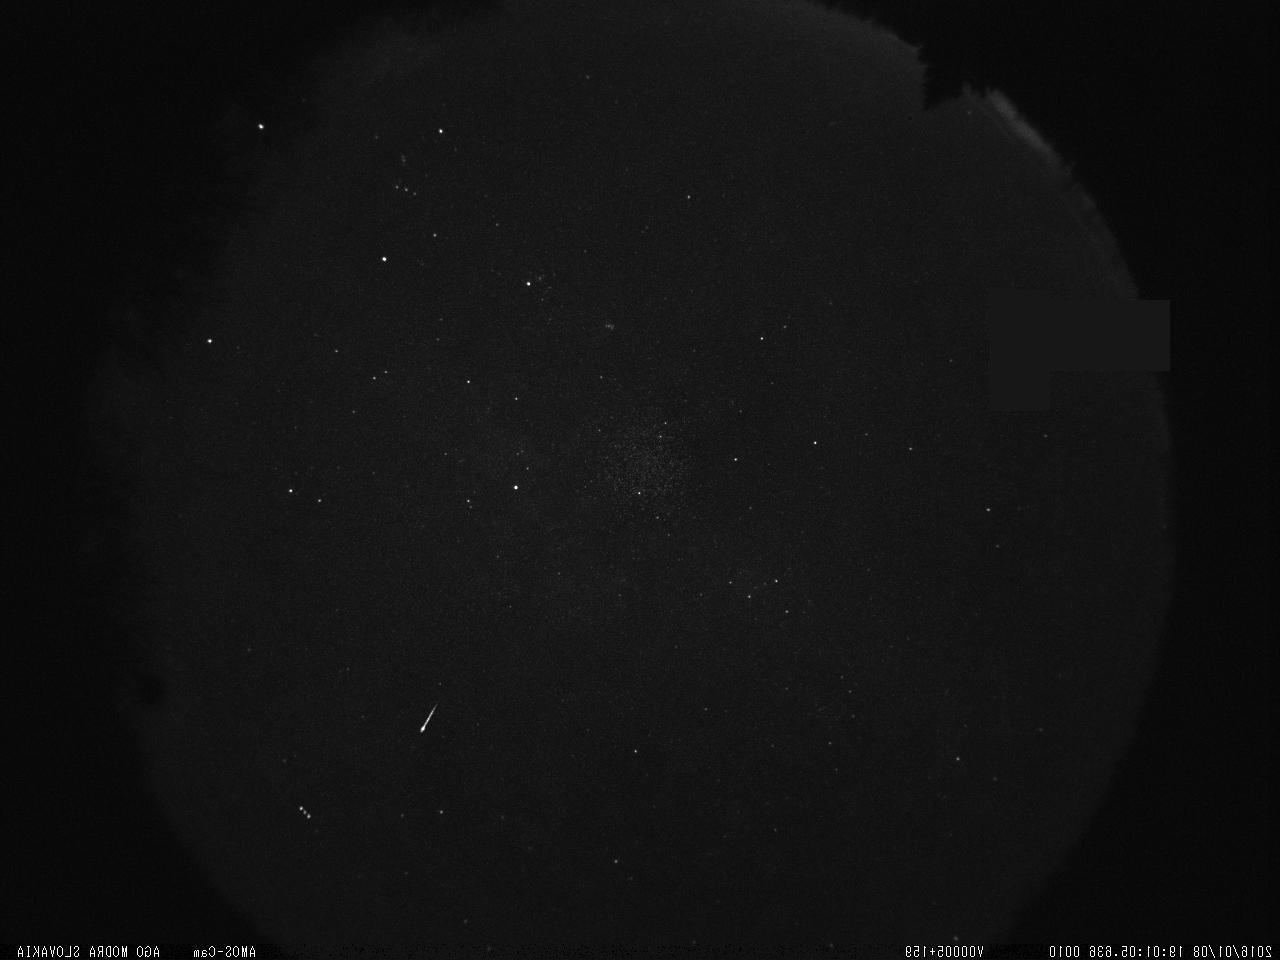meteor: (408, 696, 449, 745)
